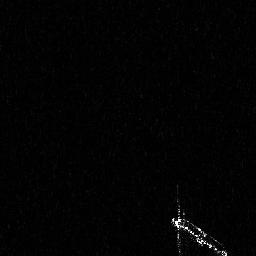ship: (168, 183, 232, 256)
